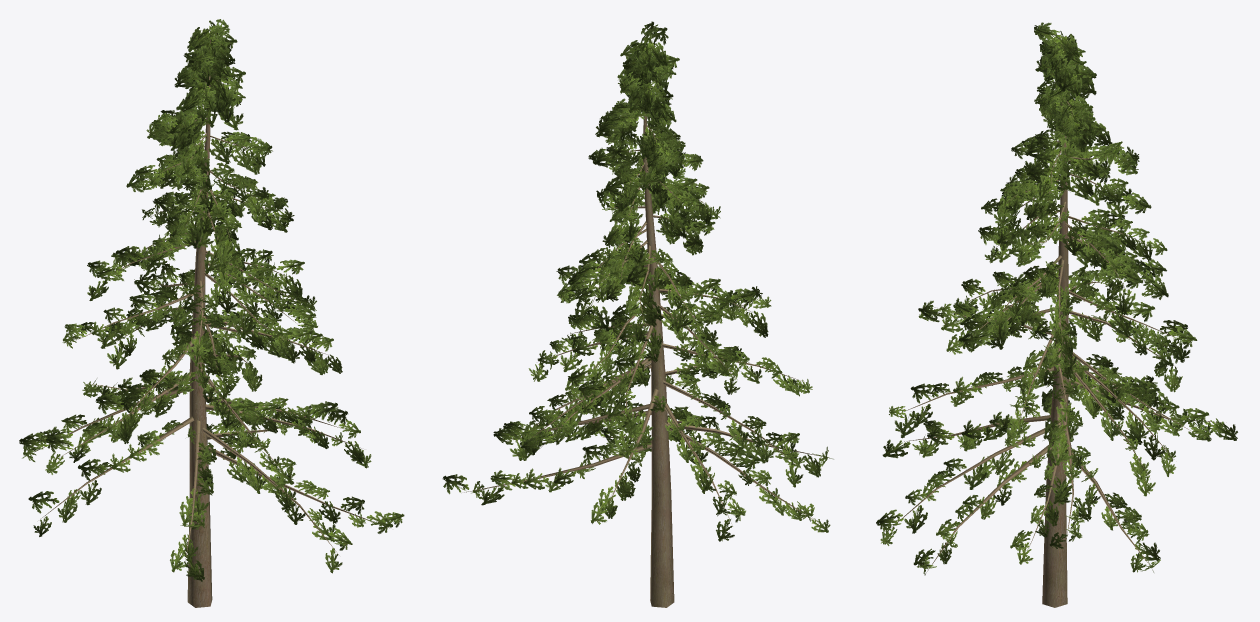
The model's file is ez-pine-01-medium.glb.
3 renders of one model, left to right at view 1: azimuth 30°, elevation 25°; view 2: azimuth 150°, elevation 25°; view 3: azimuth 270°, elevation 25°, orthographic. The views are drawn at different scales.
Parts seen in each view (by area): view 1: leaves, branches; view 2: leaves, branches; view 3: leaves, branches.
Part boxes in pixels (<box>): leaves: <box>19,19,404,581</box>; branches: <box>32,31,389,607</box>; leaves: <box>442,21,833,541</box>; branches: <box>464,45,823,607</box>; leaves: <box>876,22,1237,575</box>; branches: <box>887,36,1221,607</box>.
Size of the model in its own units: 32.08 by 51.4 by 29.59.
2 materials, 2 textured.
